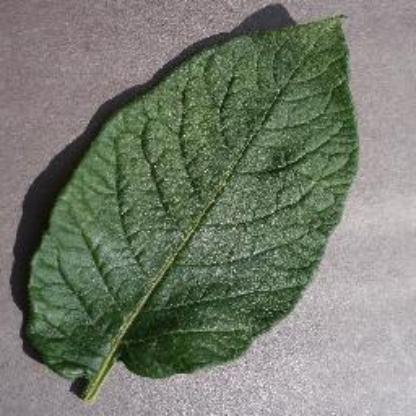Healthy-plant: (20, 10, 368, 404)
